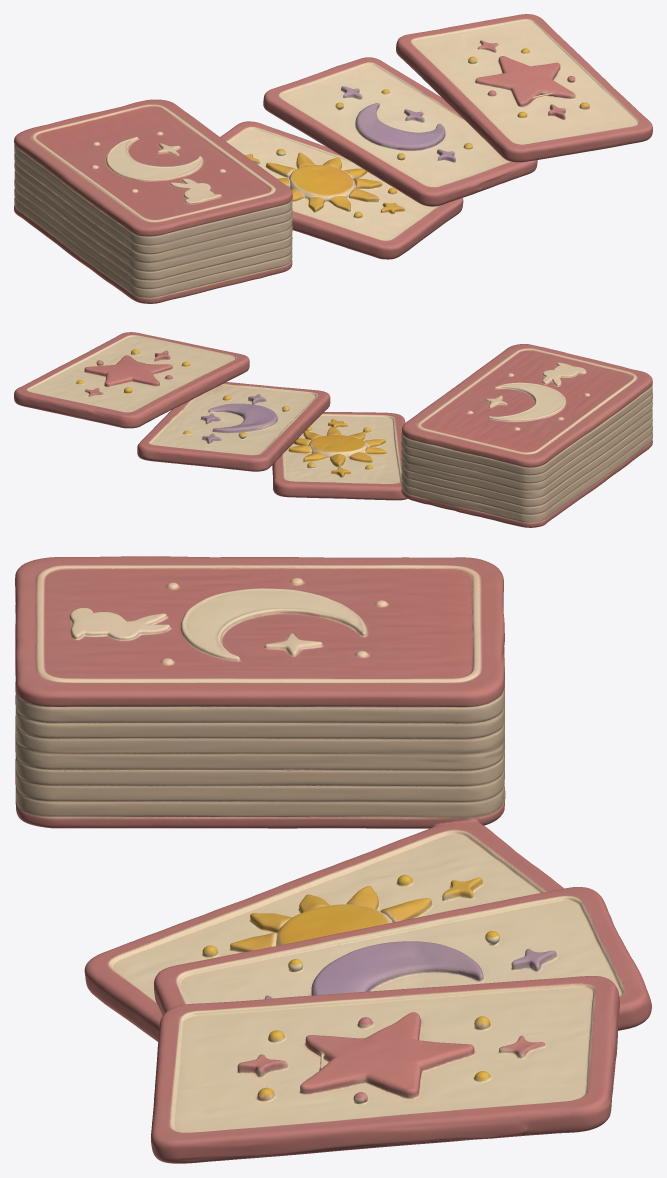
File: TarotCards.fbx
3 renders of one model, top to bottom at view 1: azimuth 30°, elevation 25°; view 2: azimuth 150°, elevation 25°; view 3: azimuth 270°, elevation 25°, orthographic. The views are drawn at different scales.
Parts seen in each view (by area): view 1: pastel tarot cards 3d model; view 2: pastel tarot cards 3d model; view 3: pastel tarot cards 3d model.
Boxes of the visible parts, x1=… form: pastel tarot cards 3d model: x1=14, y1=14, x2=652, y2=303; pastel tarot cards 3d model: x1=14, y1=332, x2=652, y2=527; pastel tarot cards 3d model: x1=15, y1=556, x2=651, y2=1163.
Bounding box in the file's own units: 1 × 0.1901 × 0.5479.
Materials: 1 (1 with a texture image).
